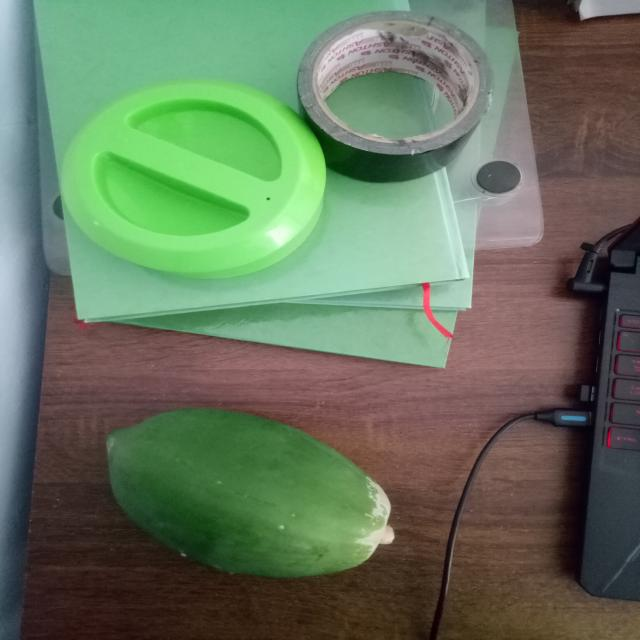Pepaya unrippen: (85, 409, 401, 580)
